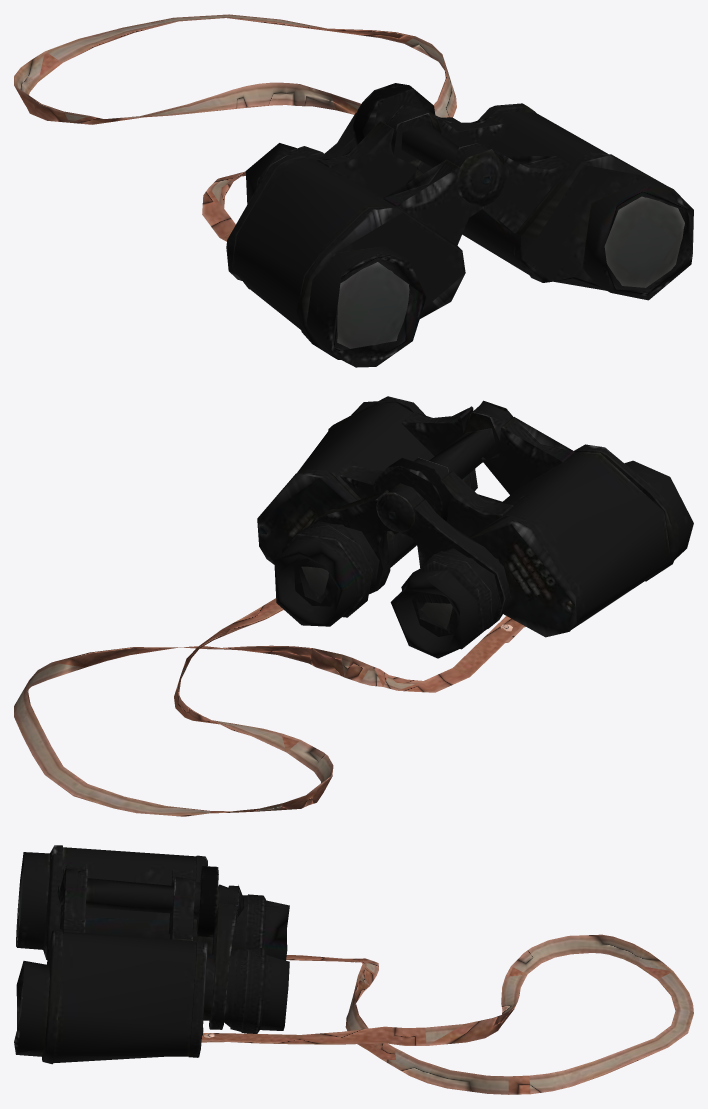
Rendered from binoculars.glb.
3 views of the same model, one above another, from view 1: azimuth 30°, elevation 25°; view 2: azimuth 150°, elevation 25°; view 3: azimuth 270°, elevation 25° (orthographic). The views are drawn at different scales.
Parts seen in each view (by area): view 1: binoculars_right, binoculars_left, binoculars_strap, binoculars_column; view 2: binoculars_right, binoculars_left, binoculars_strap, binoculars_column; view 3: binoculars_left, binoculars_strap, binoculars_right, binoculars_column.
Part boxes in pixels (x1,y1,x2,y2): binoculars_right: (226, 112, 483, 367); binoculars_left: (406, 103, 693, 300); binoculars_strap: (14, 14, 456, 241); binoculars_column: (353, 83, 508, 206); binoculars_right: (390, 417, 693, 658); binoculars_left: (257, 396, 484, 626); binoculars_strap: (14, 598, 525, 816); binoculars_column: (373, 400, 512, 534); binoculars_left: (14, 887, 289, 1064); binoculars_strap: (201, 934, 693, 1094); binoculars_right: (16, 845, 289, 960); binoculars_column: (57, 866, 244, 937).
Size of the model in its own units: 0.1668 by 0.0649 by 0.2869.
Materials: 2 (2 with a texture image).
